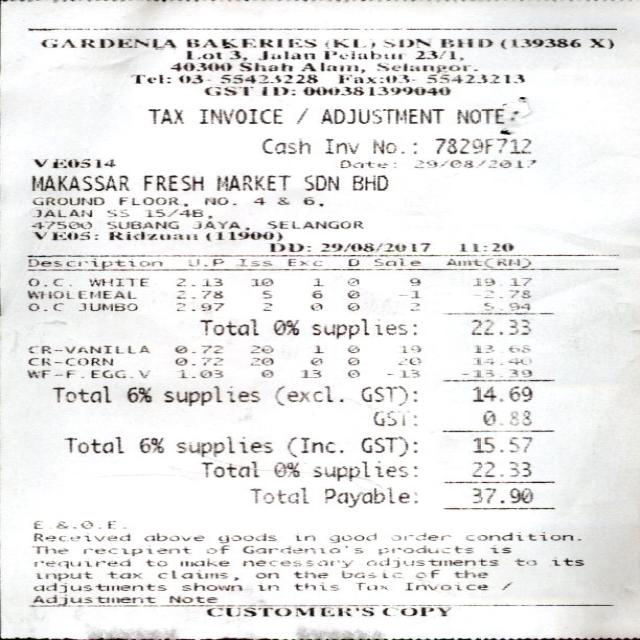text: (174, 434, 270, 456), (311, 460, 414, 480), (310, 319, 414, 338), (162, 385, 257, 405), (320, 108, 441, 122), (323, 487, 408, 506), (29, 174, 128, 190), (432, 137, 529, 153), (204, 607, 373, 616), (39, 38, 174, 49), (25, 258, 162, 268), (31, 582, 166, 592), (273, 385, 340, 405), (365, 557, 496, 567), (25, 368, 149, 378), (31, 594, 155, 604), (184, 38, 314, 47), (197, 108, 280, 122), (319, 242, 428, 252), (216, 174, 288, 189), (286, 436, 340, 456), (27, 344, 146, 353), (361, 385, 414, 405), (361, 435, 414, 455), (376, 61, 468, 72), (63, 435, 122, 452), (24, 289, 134, 298), (413, 159, 533, 167), (142, 174, 202, 190), (470, 318, 529, 334), (50, 385, 109, 401), (247, 487, 306, 503), (464, 531, 578, 539), (497, 38, 579, 49), (200, 318, 256, 334), (424, 73, 523, 82), (106, 230, 195, 240), (218, 73, 316, 82), (31, 558, 129, 567), (156, 569, 236, 580), (472, 436, 530, 451), (471, 461, 529, 476), (444, 257, 530, 267), (376, 544, 471, 553), (470, 488, 531, 502), (242, 559, 348, 567), (240, 545, 361, 552), (82, 546, 187, 554), (471, 386, 530, 400), (201, 461, 256, 476), (454, 108, 504, 124), (481, 410, 531, 426), (31, 532, 129, 540), (204, 230, 280, 240), (266, 220, 360, 228), (31, 158, 113, 167), (321, 49, 398, 58), (336, 73, 412, 82), (26, 356, 110, 364), (372, 410, 414, 426), (382, 606, 448, 616), (367, 86, 449, 94), (404, 581, 485, 589), (260, 138, 306, 152), (146, 207, 210, 217), (116, 197, 185, 206), (167, 60, 229, 70), (300, 62, 358, 72), (216, 532, 274, 542), (104, 220, 176, 228), (323, 137, 358, 153), (460, 368, 530, 376), (301, 174, 337, 189), (349, 174, 385, 189), (142, 531, 202, 540), (88, 277, 146, 286), (30, 231, 95, 239), (459, 242, 511, 252), (145, 108, 182, 122), (255, 50, 312, 59), (190, 220, 247, 229), (29, 197, 102, 204), (237, 62, 292, 71), (301, 86, 362, 94), (28, 220, 89, 228), (413, 50, 461, 60), (179, 581, 239, 589), (77, 302, 136, 310), (390, 532, 449, 540), (483, 288, 530, 298), (483, 301, 530, 311), (174, 368, 220, 378), (328, 532, 374, 542), (33, 571, 90, 579), (172, 356, 222, 365), (33, 208, 89, 216), (338, 159, 393, 167), (266, 242, 310, 252), (174, 277, 222, 286), (174, 289, 222, 298), (175, 302, 222, 311), (54, 520, 113, 527), (25, 277, 69, 286), (271, 461, 297, 476), (380, 38, 428, 46), (138, 436, 162, 452), (173, 344, 220, 352), (168, 594, 215, 602), (204, 86, 250, 94), (183, 49, 219, 59), (339, 570, 398, 576), (374, 258, 418, 266), (271, 320, 296, 334), (125, 386, 148, 401), (441, 38, 483, 46), (294, 581, 336, 589), (323, 38, 364, 46), (286, 257, 322, 266), (130, 74, 169, 82), (549, 556, 583, 565), (25, 302, 61, 310), (29, 545, 65, 553), (178, 559, 226, 565), (371, 139, 393, 152), (187, 258, 222, 266), (260, 86, 294, 94), (237, 258, 271, 266), (453, 569, 486, 577), (106, 570, 139, 578), (353, 581, 384, 589), (586, 37, 610, 47), (176, 74, 202, 83), (385, 369, 417, 376), (472, 276, 494, 286), (203, 197, 233, 204), (292, 570, 326, 576), (228, 49, 246, 60), (396, 356, 420, 364), (506, 357, 530, 365), (205, 544, 226, 553), (250, 278, 273, 286), (249, 344, 272, 352), (414, 569, 437, 577), (301, 196, 321, 205), (106, 208, 128, 216), (508, 278, 529, 286), (249, 357, 272, 364), (400, 344, 420, 352), (512, 558, 534, 565), (295, 107, 304, 123), (472, 344, 490, 352), (254, 572, 277, 578), (300, 369, 319, 376), (143, 559, 165, 565), (408, 301, 421, 311), (488, 546, 509, 552), (256, 584, 277, 590), (346, 301, 358, 311), (346, 289, 359, 298), (309, 302, 322, 311), (409, 289, 420, 299), (261, 301, 272, 311), (347, 257, 359, 266), (408, 277, 420, 286), (474, 357, 492, 363), (507, 346, 528, 351), (345, 278, 358, 286), (261, 289, 271, 299), (275, 196, 287, 204), (346, 344, 358, 352), (346, 356, 358, 364), (294, 534, 313, 539), (310, 289, 320, 298), (311, 278, 322, 286), (252, 197, 264, 204), (308, 357, 320, 364), (346, 369, 358, 376), (259, 369, 271, 376), (313, 344, 322, 352), (500, 581, 509, 589), (32, 520, 40, 527)
